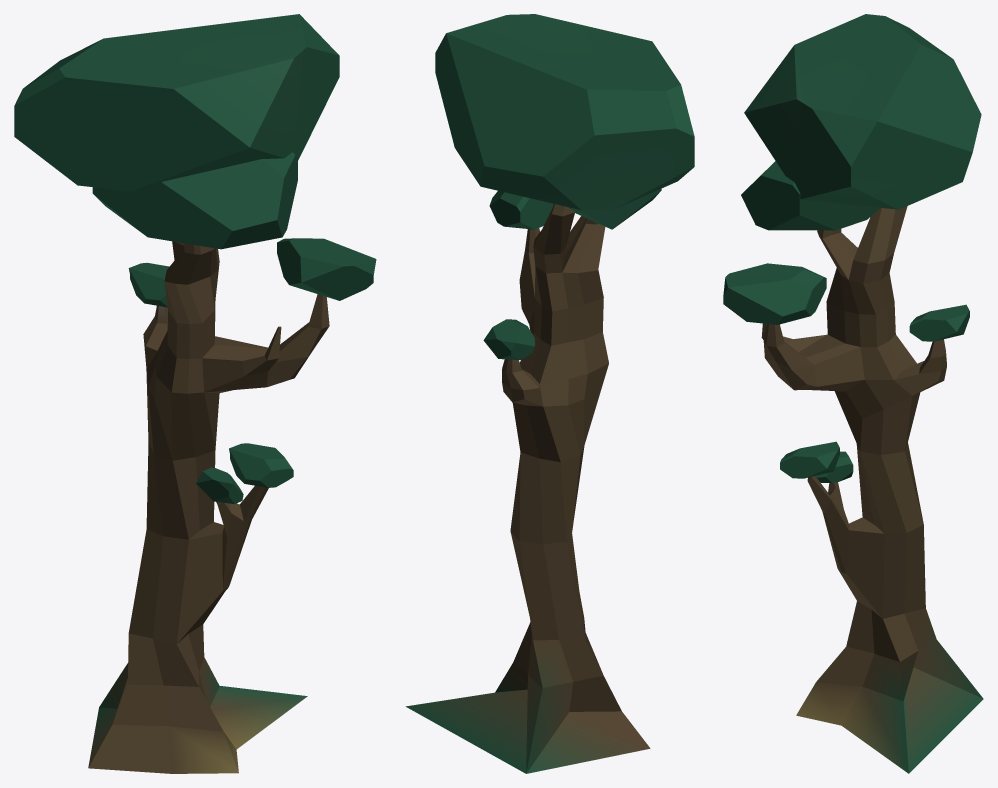
Rendered from tree_6.fbx.
3 renders of one model, left to right at view 1: azimuth 30°, elevation 25°; view 2: azimuth 150°, elevation 25°; view 3: azimuth 270°, elevation 25°, orthographic. The views are drawn at different scales.
Parts seen in each view (by area): view 1: Cube.508; view 2: Cube.508; view 3: Cube.508.
Boxes of the visible parts, x1,y1,x2,y2 form: Cube.508: [14, 14, 376, 773]; Cube.508: [405, 14, 694, 773]; Cube.508: [723, 14, 983, 773].
Bounding box in the file's own units: 452 × 1013 × 373.
